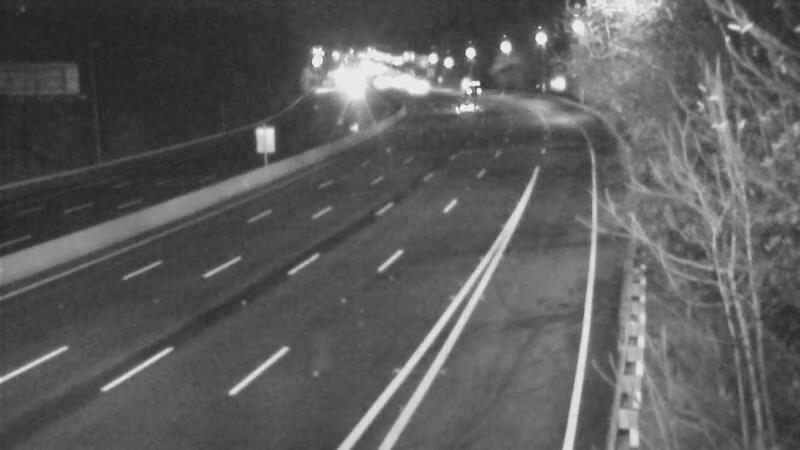vehicle: (450, 56, 500, 106), (439, 77, 489, 127)
